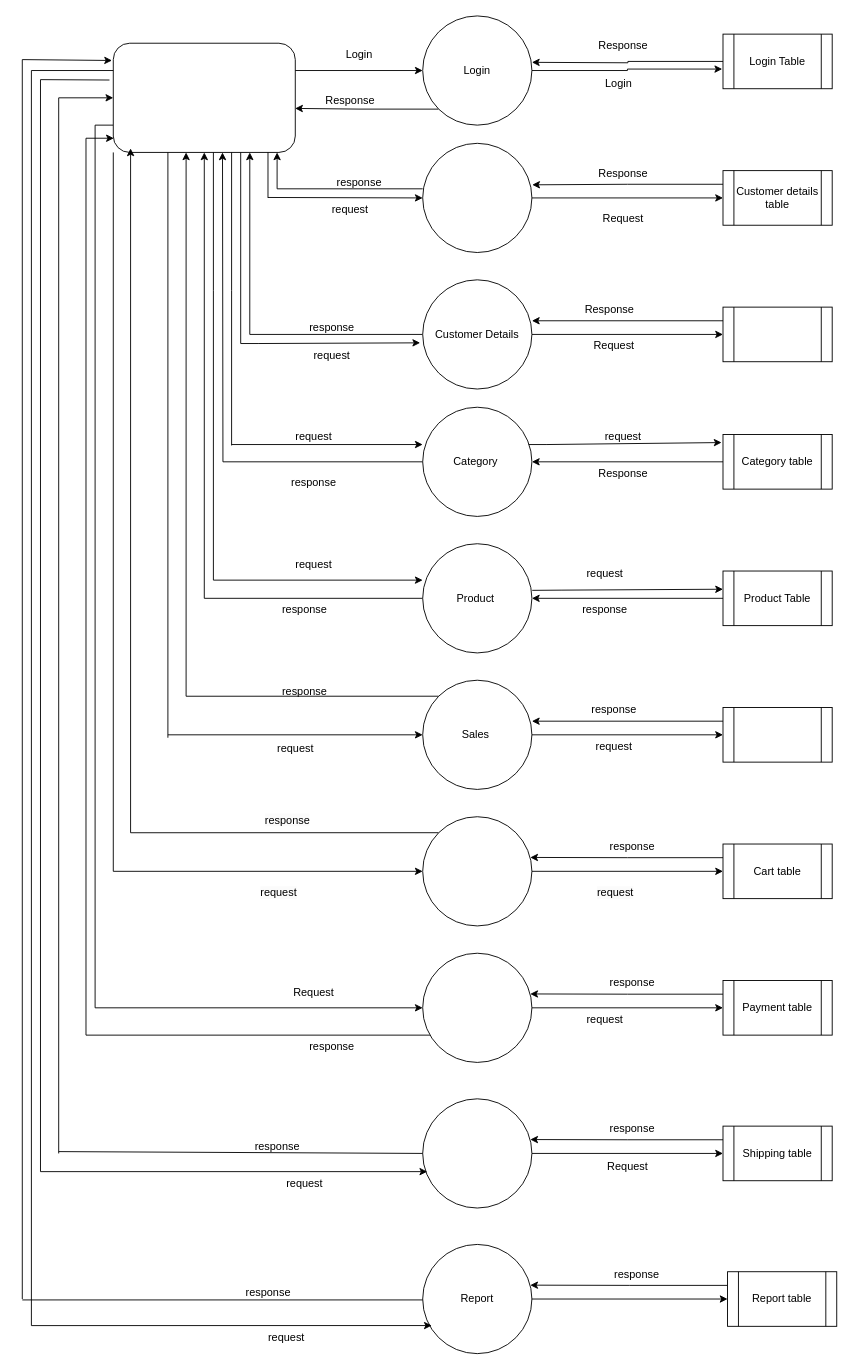
The diagram is 853 pixels wide and 1370 high, and some of its shapes have lost their labels. The shapes that lost their labels are listed below. From the top down, each one's centre as x and y in pixels, then its label:
At (x=203, y=97): "Admin".
At (x=477, y=197): "Website".
At (x=777, y=334): "Customers details table".
At (x=777, y=734): "Sales table".
At (x=477, y=871): "Cart".
At (x=477, y=1007): "Payment".
At (x=477, y=1153): "Shipping".
